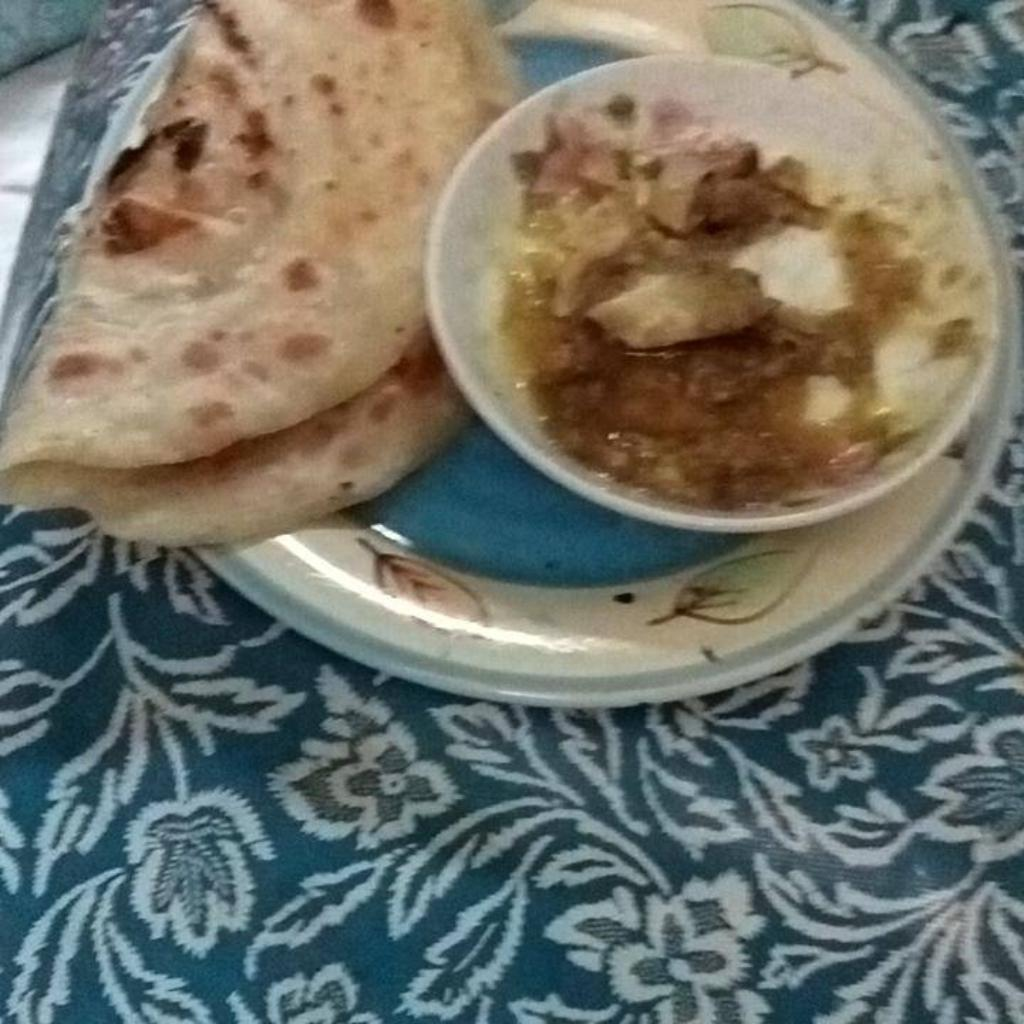chicken: (514, 123, 860, 497)
ruti: (0, 3, 519, 544)
